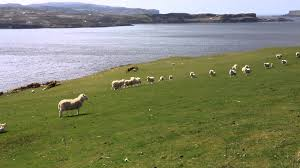sheep: (55, 95, 92, 118), (123, 76, 141, 89), (237, 63, 253, 75), (145, 74, 161, 85), (223, 66, 239, 77), (110, 80, 125, 91), (205, 68, 219, 78), (259, 61, 274, 70), (156, 74, 165, 85), (164, 74, 175, 83), (188, 70, 197, 81), (275, 51, 285, 59), (136, 75, 143, 86), (280, 59, 289, 66), (292, 52, 300, 58)
